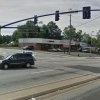Traffic light: (23, 5, 73, 33)
